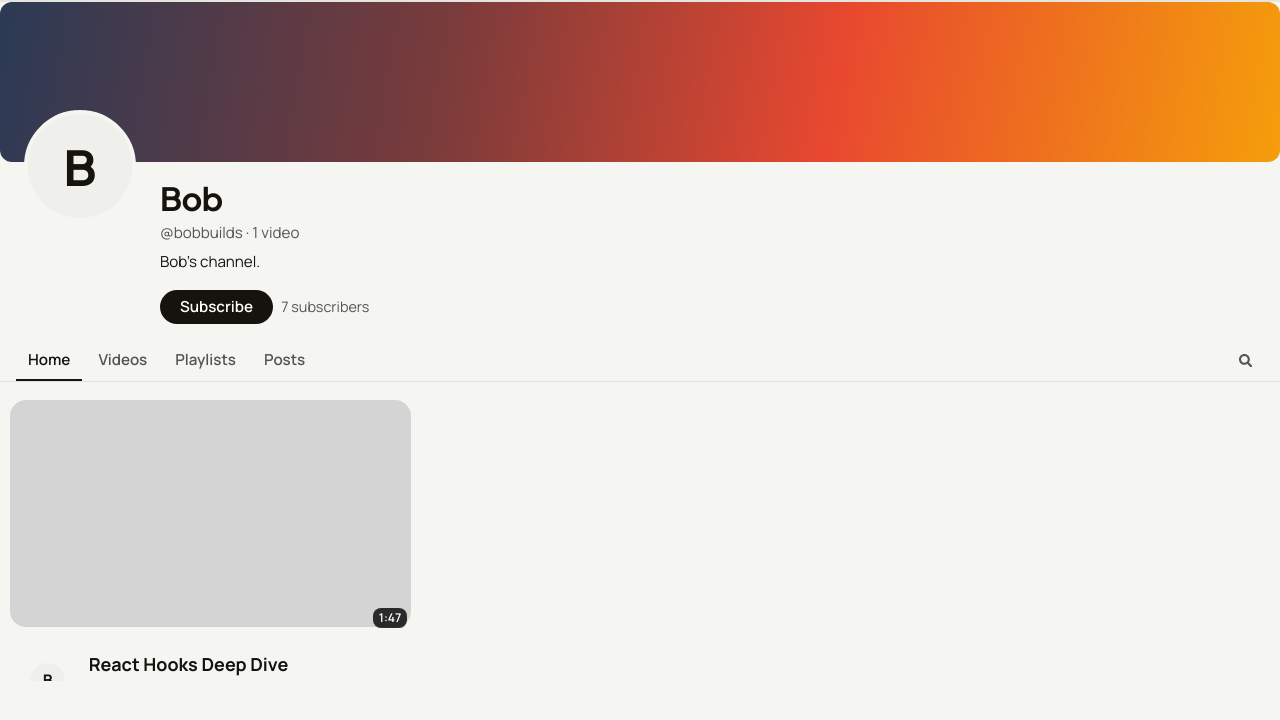
Test: Channel tabs › Playlists tab shows an honest empty state when the channel has none
expect the heading "Bob" is shown: met, box [160,178,223,218]
Click the tab "Playlists" at x=206, y=361, box [163,340,248,381]
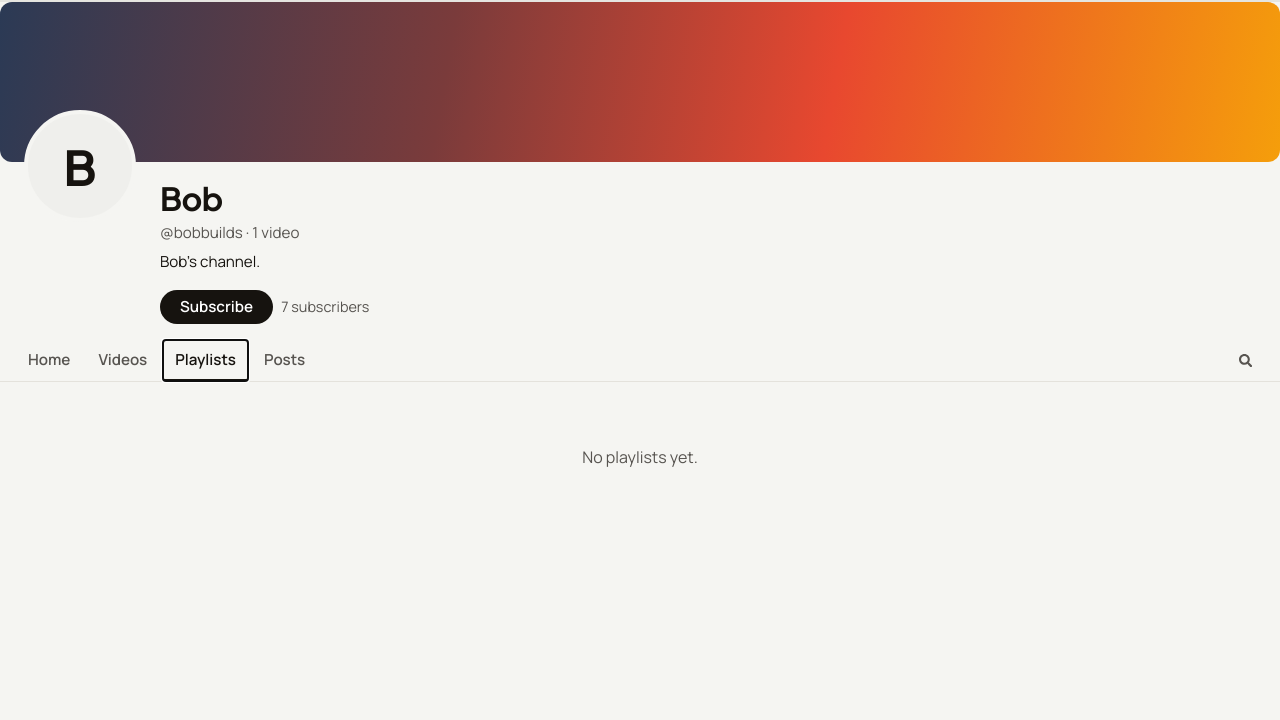
expect the text "No playlists yet." is shown: met, box [582,446,698,468]
